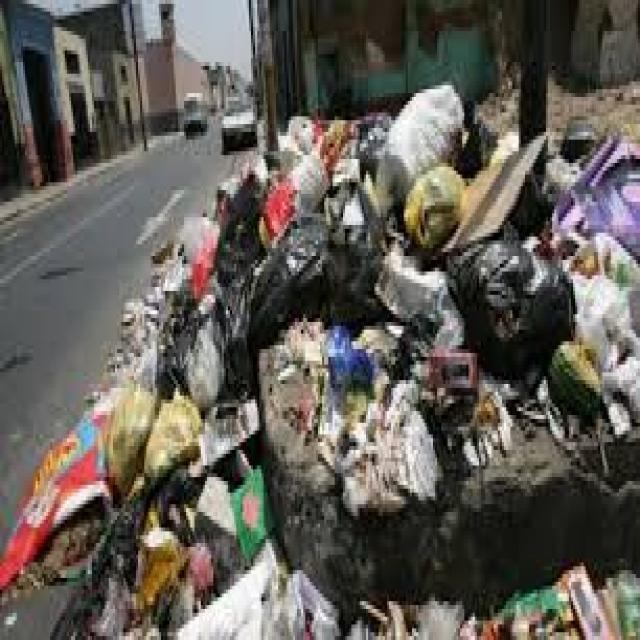garbage: (0, 90, 640, 640)
